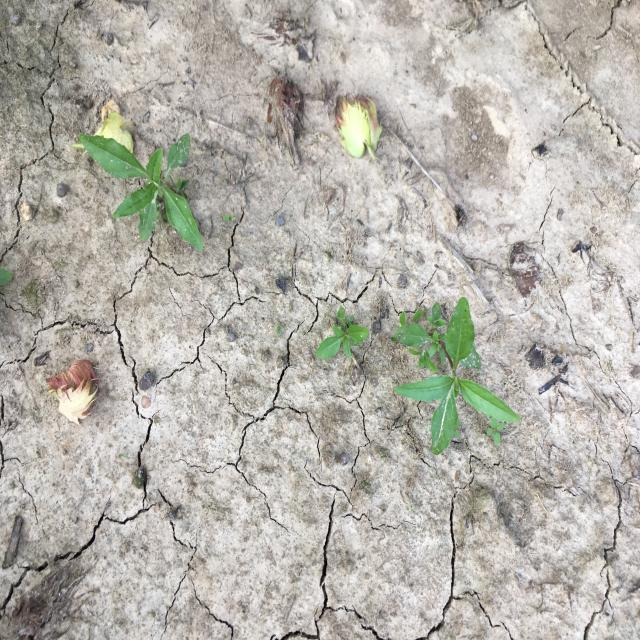Eclipta: (389, 295, 522, 457), (77, 132, 205, 254), (314, 304, 370, 362)
